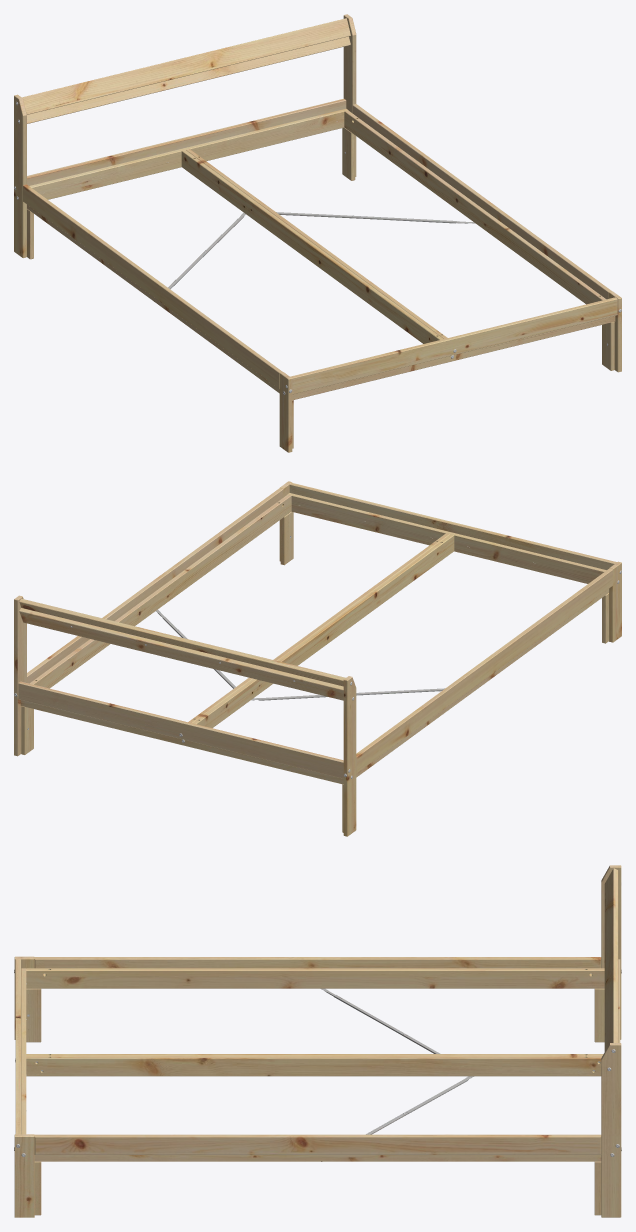
File: neiden-bed-frame-pine-70395239.glb
3 views of the same model, one above another, from view 1: azimuth 30°, elevation 25°; view 2: azimuth 150°, elevation 25°; view 3: azimuth 270°, elevation 25° (orthographic). The views are drawn at different scales.
Parts seen in each view (by area): view 1: model; view 2: model; view 3: model.
Boxes of the visible parts, <box> form: model: <box>14,14,621,452</box>; model: <box>14,481,621,836</box>; model: <box>14,865,621,1217</box>.
Size of the model in its own units: 1.44 by 0.645 by 2.06.
1 material, 1 textured.
